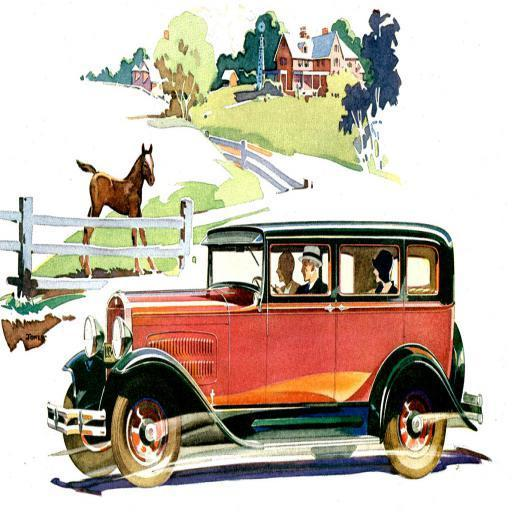horse: (74, 141, 158, 272)
